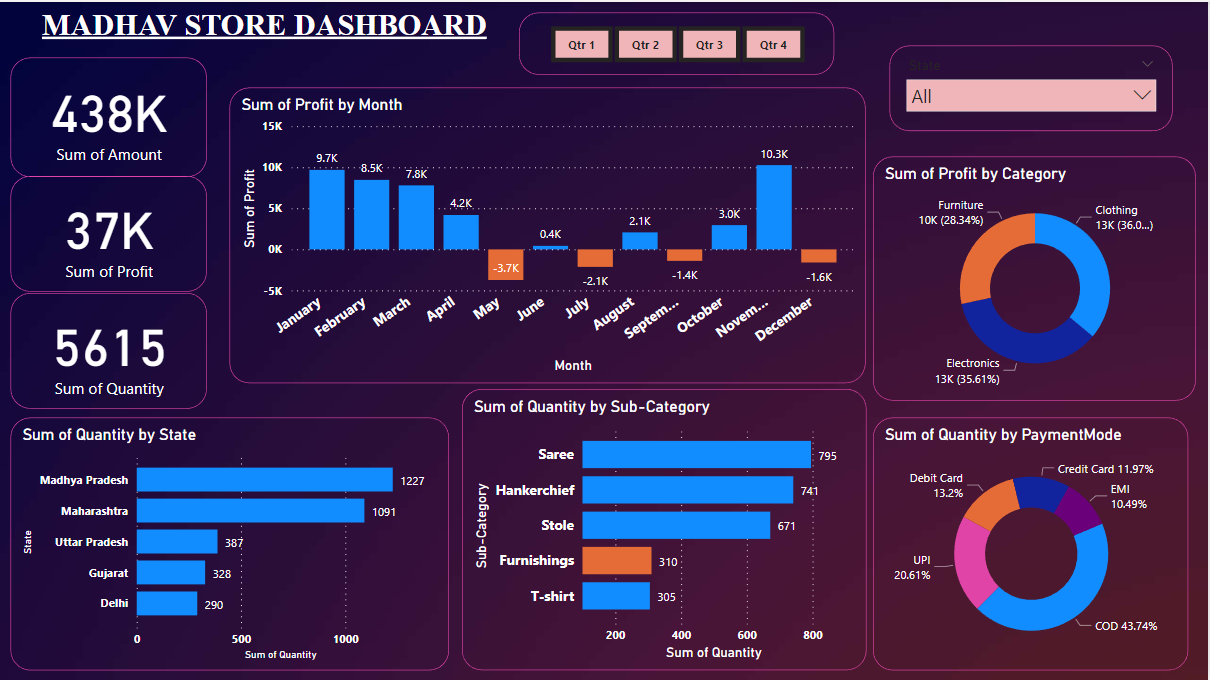

What the dashboard file says about the page in this screenshot:
{"tool":"powerbi","page":{"name":"MADHAV STORE","canvas":[1280,720],"ordinal":0},"visuals":[{"type":"columnChart","fields":{"Category":["Orders.Order Date.Variation.Date Hierarchy.Month"],"Y":["Sum(Details.Profit)"]},"box":[243.5,90.6,674,313.4],"z":0},{"type":"textbox","box":[11.3,0,538.1,58.5],"z":1000},{"type":"clusteredBarChart","fields":{"Category":["Details.Sub-Category"],"Y":["Sum(Details.Quantity)"]},"box":[489,409.7,428.6,298.3],"z":2000},{"type":"donutChart","fields":{"Category":["Details.Category"],"Y":["Sum(Details.Profit)"]},"box":[925.1,164.2,341.7,258.6],"z":3000},{"type":"donutChart","fields":{"Category":["Details.PaymentMode"],"Y":["Sum(Details.Quantity)"]},"box":[925.1,439.9,334.2,268.1],"z":4000},{"type":"card","fields":{"Values":["Sum(Details.Amount)"]},"box":[11.3,58.5,207.7,126.5],"z":5000},{"type":"card","fields":{"Values":["Sum(Details.Profit)"]},"box":[11.3,185,207.7,122.7],"z":6000},{"type":"card","fields":{"Values":["Sum(Details.Quantity)"]},"box":[11.3,307.7,207.7,122.7],"z":7000},{"type":"clusteredBarChart","fields":{"Y":["Sum(Details.Quantity)"],"Category":["Orders.State"]},"box":[11.3,439.9,464.4,268.1],"z":8000},{"type":"slicer","fields":{"Values":["Orders.Order Date.Variation.Date Hierarchy.Quarter"]},"box":[549.4,11.3,334.2,66.1],"z":9000},{"type":"slicer","fields":{"Values":["Orders.State"]},"box":[942.1,45.3,300.2,90.6],"z":9001}]}

Visuals, with their boxes in screenshot pixels (x1, y1, x2, y2), scaled from the page's 1280x720 canvas onto the 1210x680 screenshot:
columnChart - Orders.Order Date.Variation.Date Hierarchy.Month x Sum(Details.Profit): {"left": 230, "top": 86, "right": 867, "bottom": 382}
textbox: {"left": 11, "top": 0, "right": 519, "bottom": 55}
clusteredBarChart - Details.Sub-Category x Sum(Details.Quantity): {"left": 462, "top": 387, "right": 867, "bottom": 669}
donutChart - Details.Category x Sum(Details.Profit): {"left": 875, "top": 155, "right": 1198, "bottom": 399}
donutChart - Details.PaymentMode x Sum(Details.Quantity): {"left": 875, "top": 415, "right": 1190, "bottom": 669}
card - Sum(Details.Amount): {"left": 11, "top": 55, "right": 207, "bottom": 175}
card - Sum(Details.Profit): {"left": 11, "top": 175, "right": 207, "bottom": 291}
card - Sum(Details.Quantity): {"left": 11, "top": 291, "right": 207, "bottom": 406}
clusteredBarChart - Sum(Details.Quantity) x Orders.State: {"left": 11, "top": 415, "right": 450, "bottom": 669}
slicer - Orders.Order Date.Variation.Date Hierarchy.Quarter: {"left": 519, "top": 11, "right": 835, "bottom": 73}
slicer - Orders.State: {"left": 891, "top": 43, "right": 1174, "bottom": 128}
